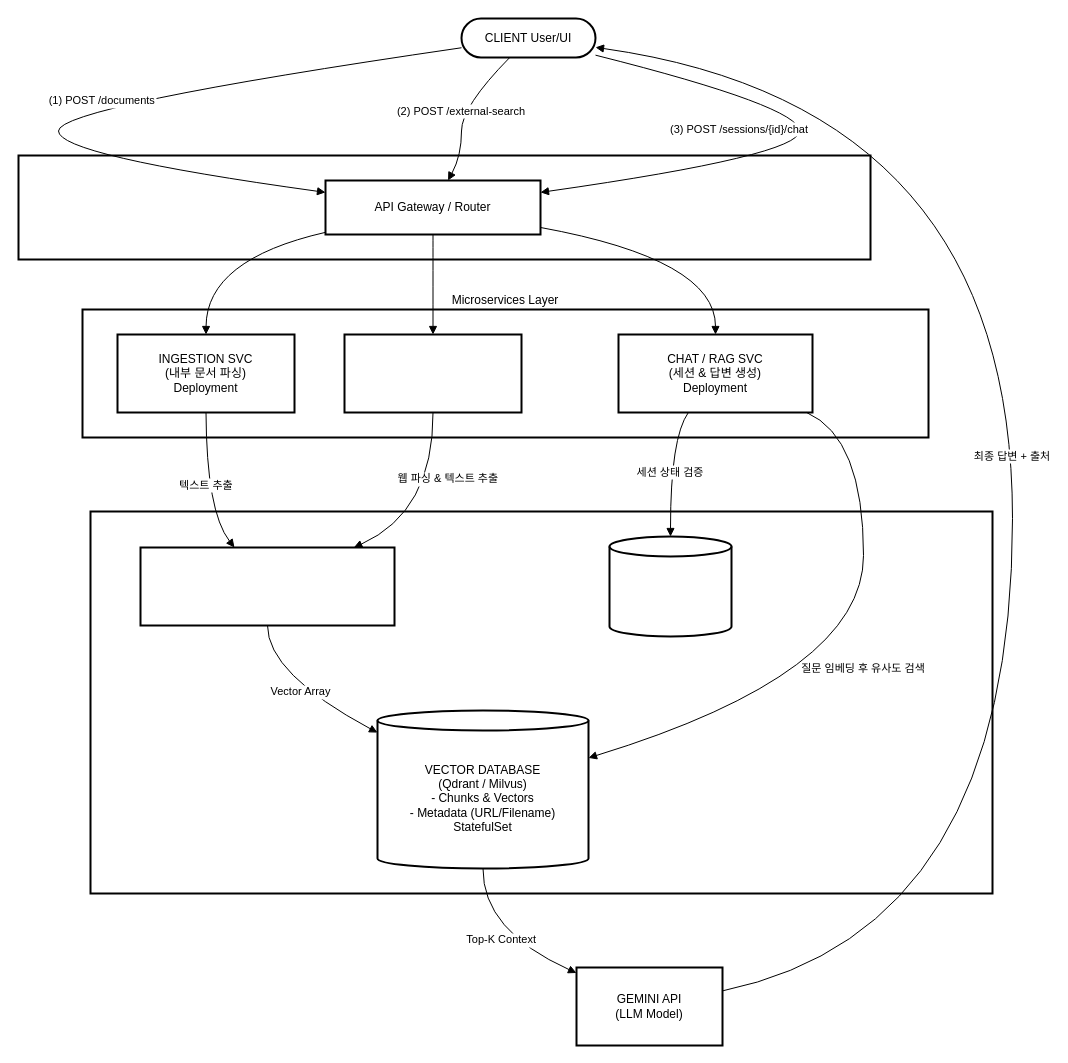
Image size: 1068x1063. Some labels were removed from this diagram. Each missing label, with the box of its shape:
CRAWLER SVC (외부 문서 수집) Deployment: (343, 333, 522, 413)
EMBEDDING PIPELINE (Gemini / Text Embedding): (139, 546, 395, 626)
NOTEBOOK UUID STORE (RDB / Redis) StatefulSet: (608, 535, 732, 637)
Processing & Storage: (89, 510, 993, 894)
